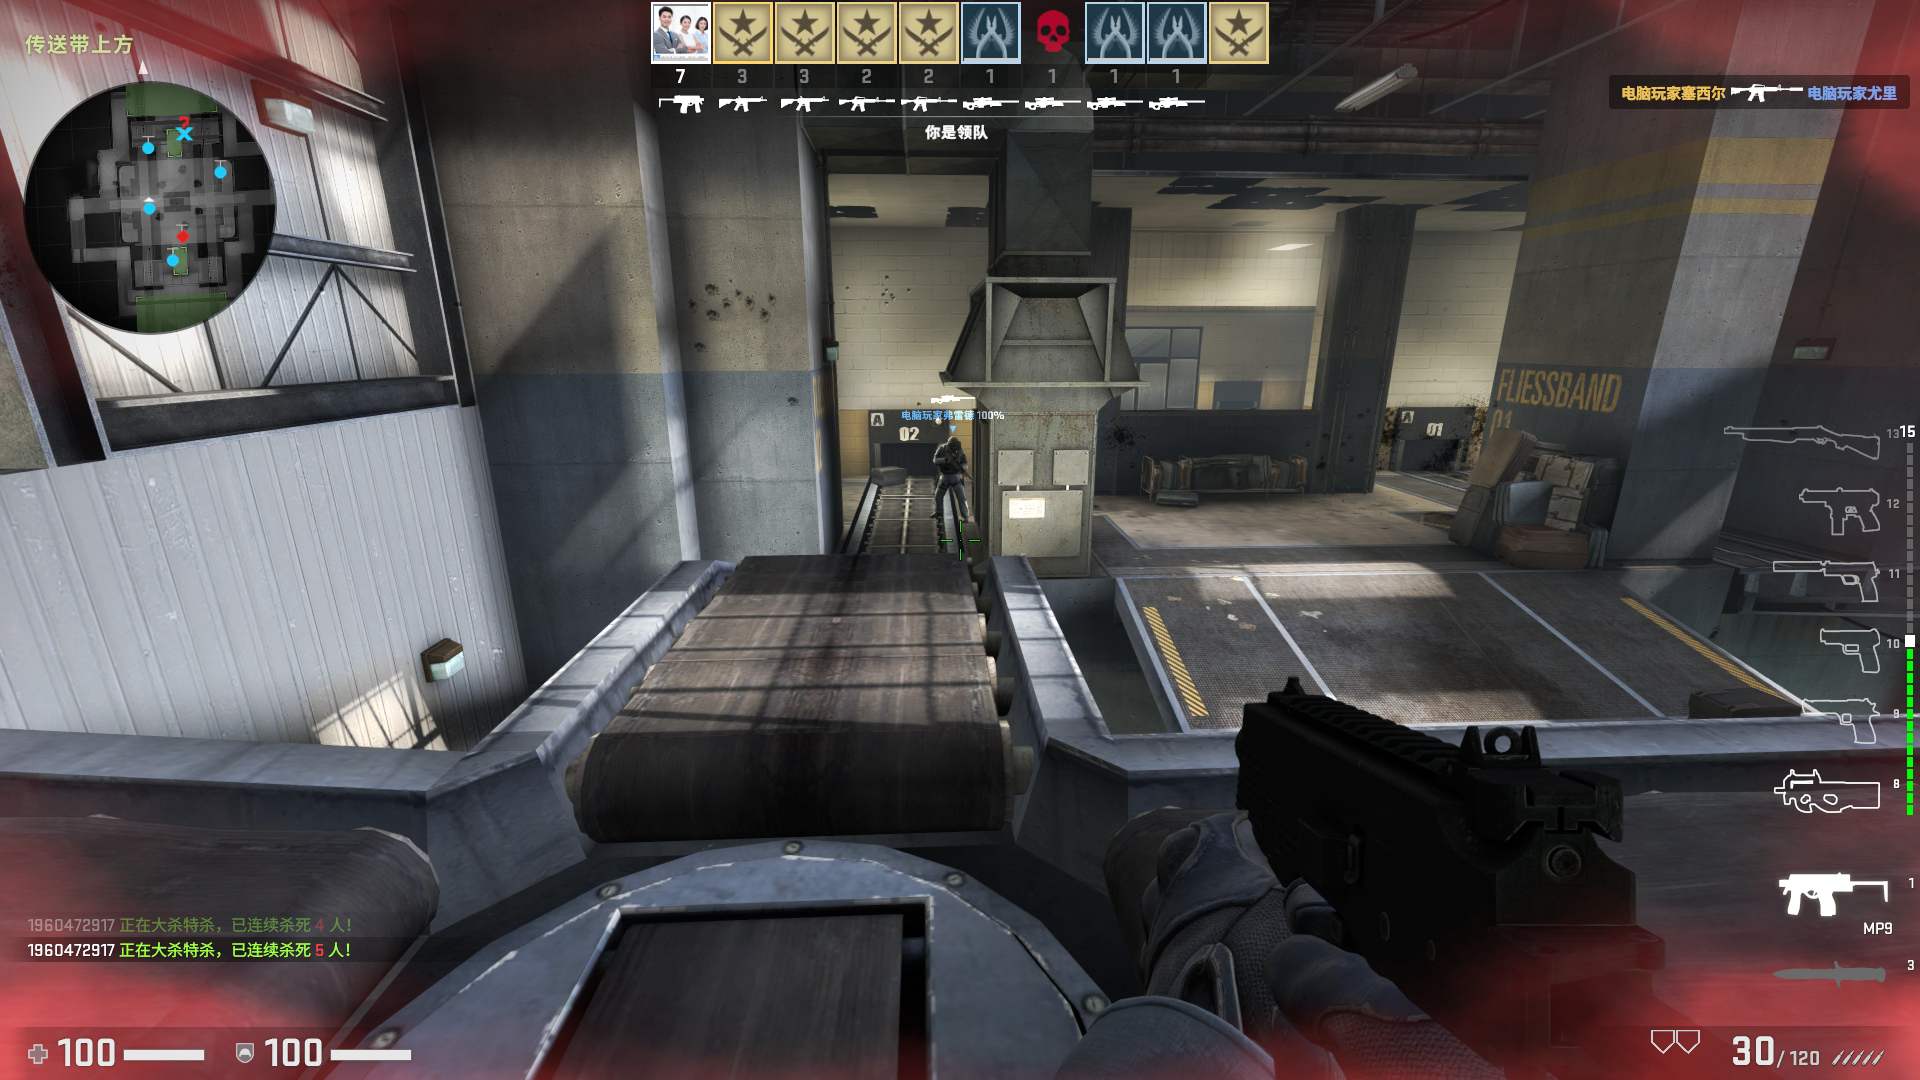person: (926, 435, 971, 534)
